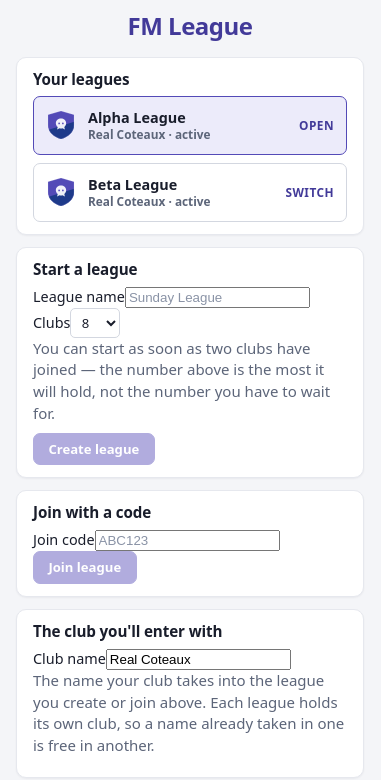
SWITCHING: choosing the other league re-resolves the whole app onto it
This screenshot has width=381, height=780.
Click the button "Beta League Real Coteaux · active Switch" at (190, 192), box 33,163 -> 347,222
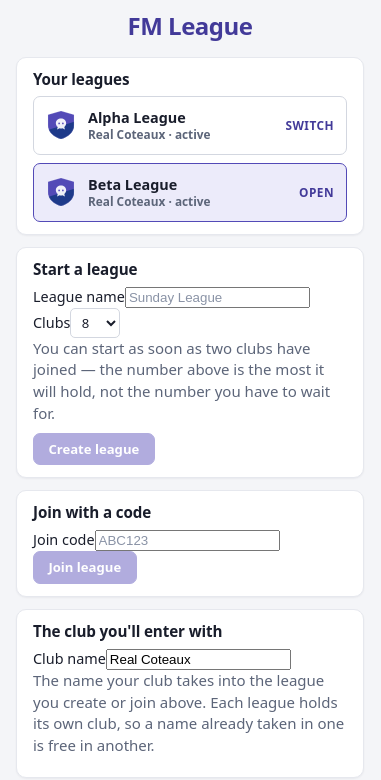
Result: the text "Open" is shown at 299,185 -> 334,200
